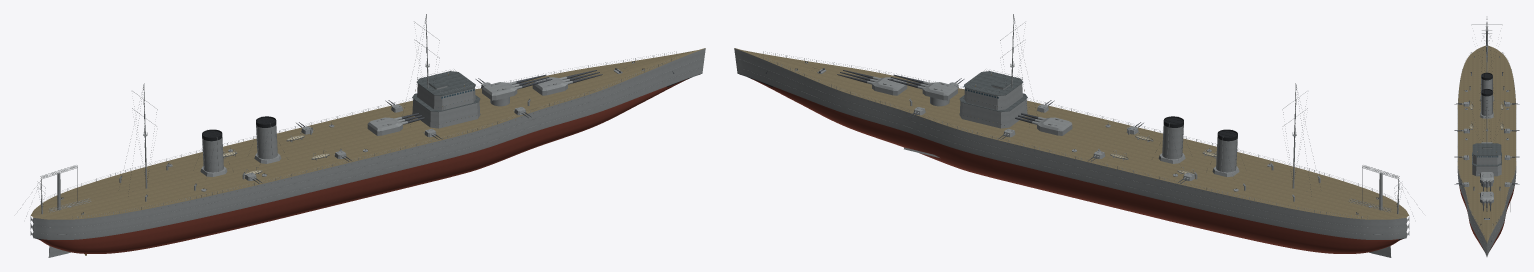
The model's file is invincible_bc22.glb.
3 views of the same model, side by side, from view 1: azimuth 30°, elevation 25°; view 2: azimuth 150°, elevation 25°; view 3: azimuth 270°, elevation 25° (orthographic). The views are drawn at different scales.
Visible parts, largest first — view 1: Invincible class; view 2: Invincible class; view 3: Invincible class.
Part boxes in pixels (<box>): Invincible class: <box>20,14,705,257</box>; Invincible class: <box>734,14,1419,257</box>; Invincible class: <box>1454,19,1519,256</box>.
Size of the model in its own units: 266 by 56.98 by 35.83.
9 materials, 8 textured.
